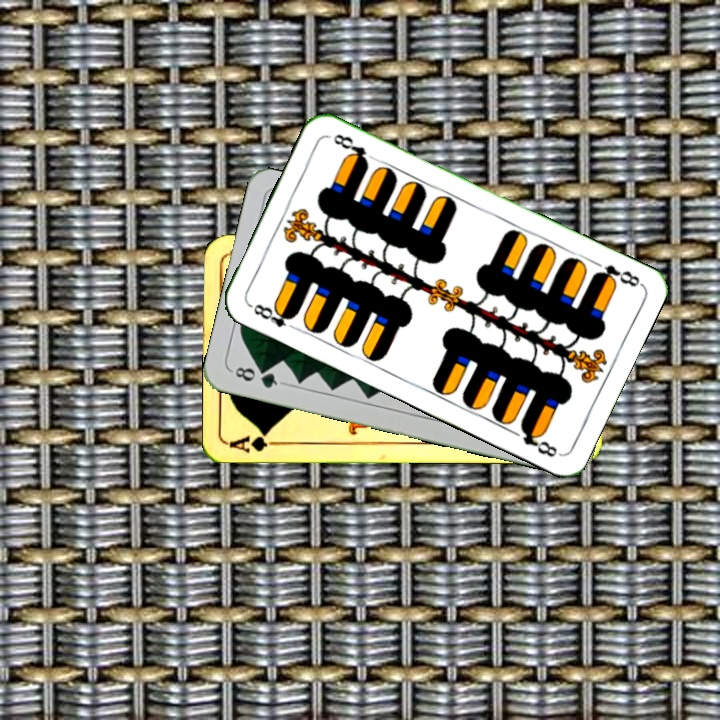E8: (245, 300, 300, 333), (589, 260, 643, 290)
G8: (228, 363, 286, 391)
GA: (227, 427, 286, 454)
